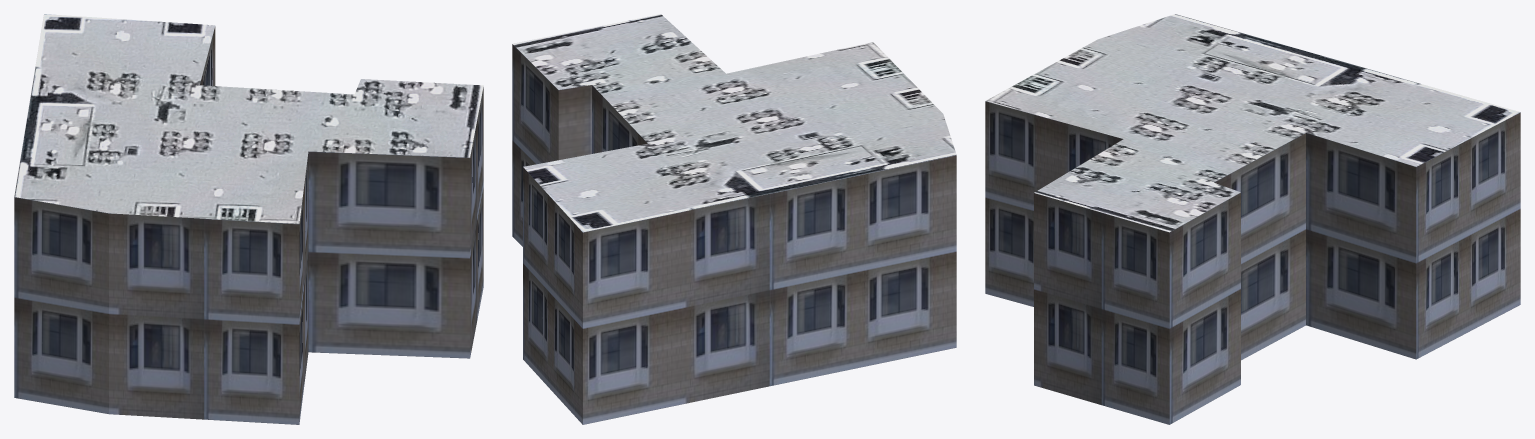
The model's file is ResTex__4972.fbx.
3 renders of one model, left to right at view 1: azimuth 30°, elevation 25°; view 2: azimuth 150°, elevation 25°; view 3: azimuth 270°, elevation 25°, orthographic. The views are drawn at different scales.
Parts seen in each view (by area): view 1: CityEngineMaterial_3_m, CityEngineMaterial_4_m; view 2: CityEngineMaterial_3_m, CityEngineMaterial_4_m; view 3: CityEngineMaterial_3_m, CityEngineMaterial_4_m.
Part boxes in pixels (x1,y1,x2,y2): CityEngineMaterial_3_m: (14,26,483,424); CityEngineMaterial_4_m: (14,14,483,223); CityEngineMaterial_3_m: (512,44,956,424); CityEngineMaterial_4_m: (513,14,956,232); CityEngineMaterial_3_m: (985,101,1520,424); CityEngineMaterial_4_m: (985,14,1520,232).
Bounding box in the file's own units: 14.58 × 6 × 15.11.
Materials: 2 (2 with a texture image).
